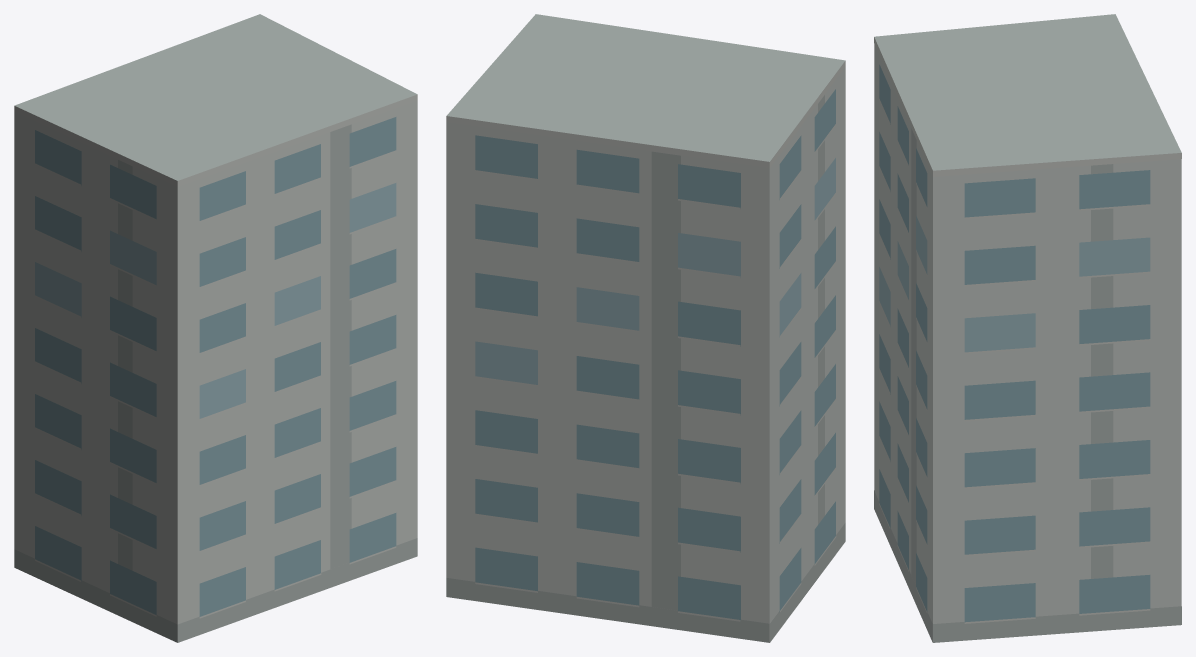
The model's file is survey-upis-32905369.glb.
3 renders of one model, left to right at view 1: azimuth 30°, elevation 25°; view 2: azimuth 150°, elevation 25°; view 3: azimuth 270°, elevation 25°, orthographic. The views are drawn at different scales.
Visible parts, largest first — view 1: survey-upis-32905369.tmp; view 2: survey-upis-32905369.tmp; view 3: survey-upis-32905369.tmp.
Boxes of the visible parts, x1,y1,x2,y2 form: survey-upis-32905369.tmp: [14, 14, 417, 642]; survey-upis-32905369.tmp: [446, 14, 845, 642]; survey-upis-32905369.tmp: [874, 14, 1181, 642].
Size of the model in its own units: 13.03 by 18.3 by 10.82.
